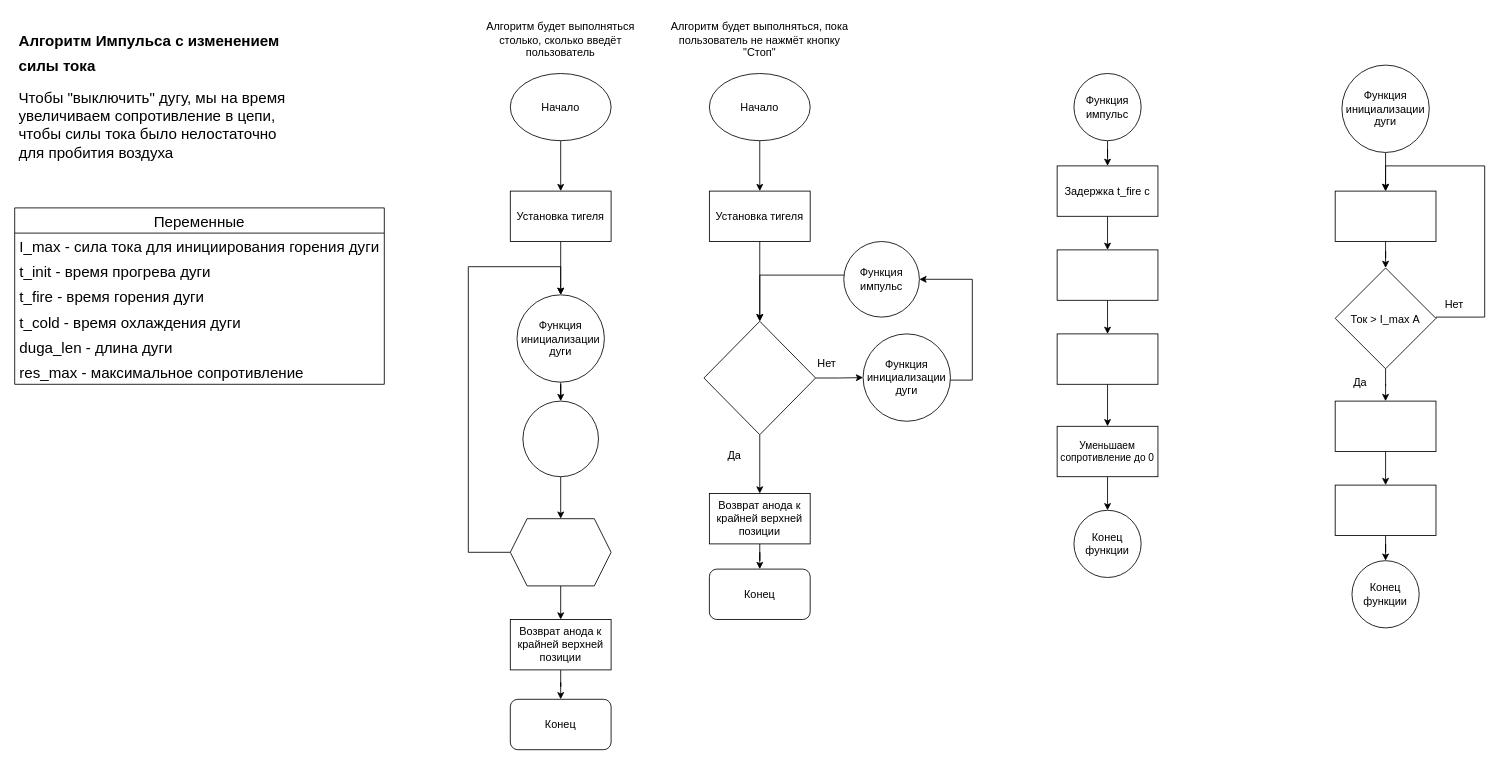
Some shapes in this 1506 by 764 pixel diagram are drawn without their labels. The centre of each missing label's shape, as x and y in pixels:
Движение анода вниз: pixel 1385 216
Движение вверх на duga_len мм: pixel 1385 510
Ждем t_cold с: pixel 1107 358
Задержка t_init с: pixel 1385 426
Повторить n раз: pixel 560 552
Получил команду "Стоп": pixel 759 377
Увеличиваем сопротивление до res_max: pixel 1107 274
Функция импульса: pixel 560 438
